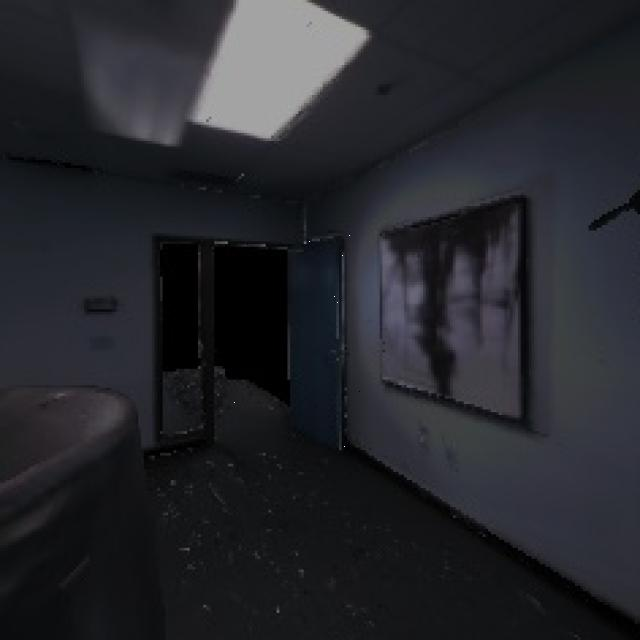door: (278, 218, 369, 475)
door-frame: (185, 226, 308, 469)
